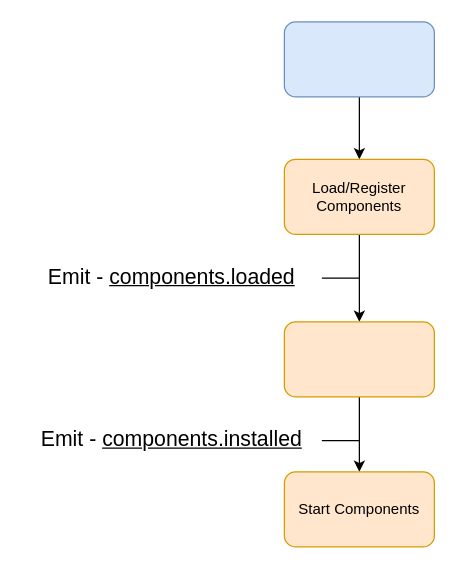
Image size: 456x569. Some labels were removed from this diagram. Here are the shapes that lost their labels. From the top down, the centre of each, then its label:
point (358, 59): Start Server
point (358, 359): Install Components
